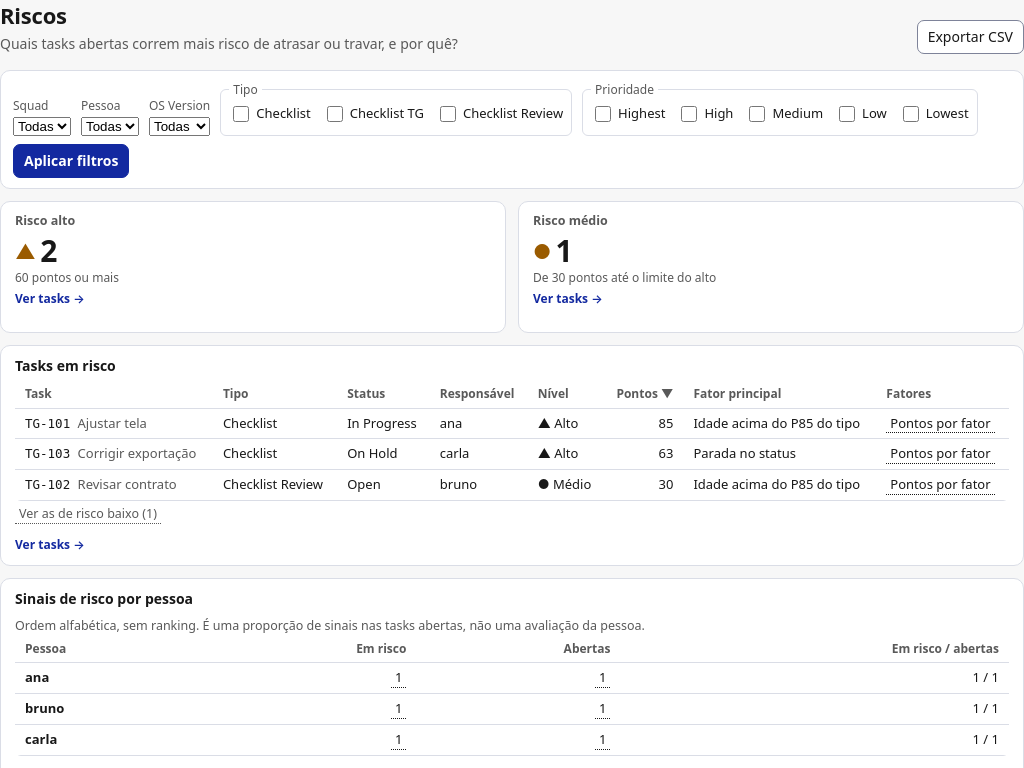
Test: tela Riscos › riscosGavetaMostraPontosPorFator
The image size is (1024, 768).
Click the button with aria-label "Pontos por fator de TG-101" at (940, 424), box [886,414,995,433]
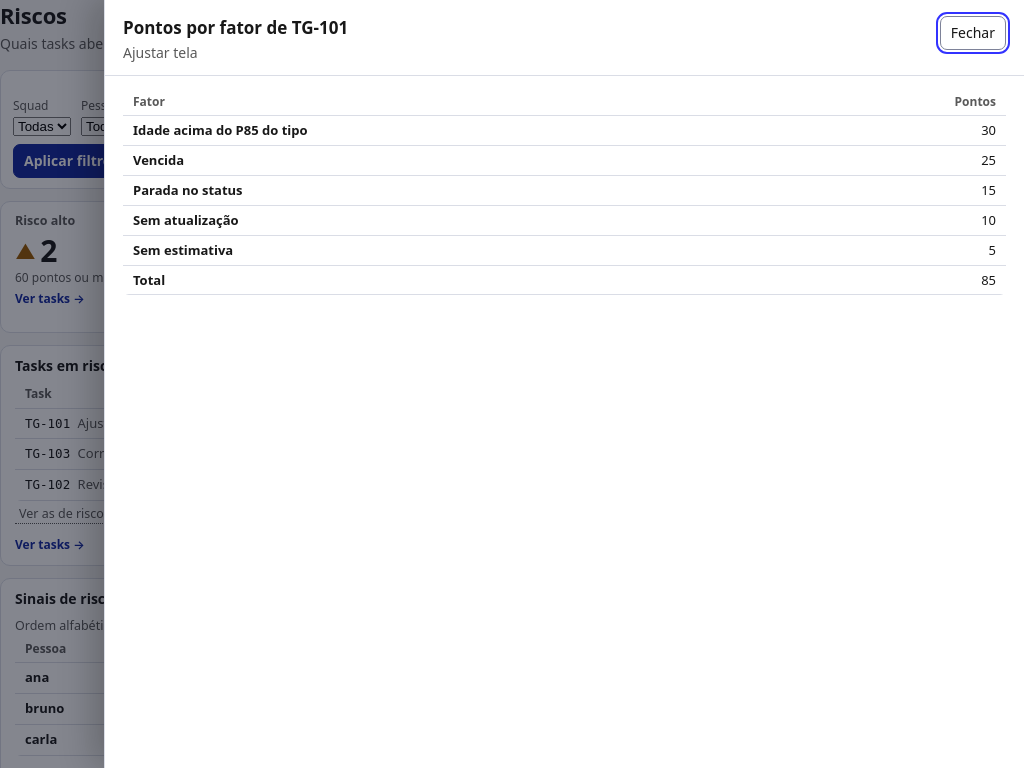
Expected: the row "Idade acima do P85 do tipo 30" is shown, [123,116,1006,146]
Expected: the row "Total 85" is shown, [123,265,1006,295]
